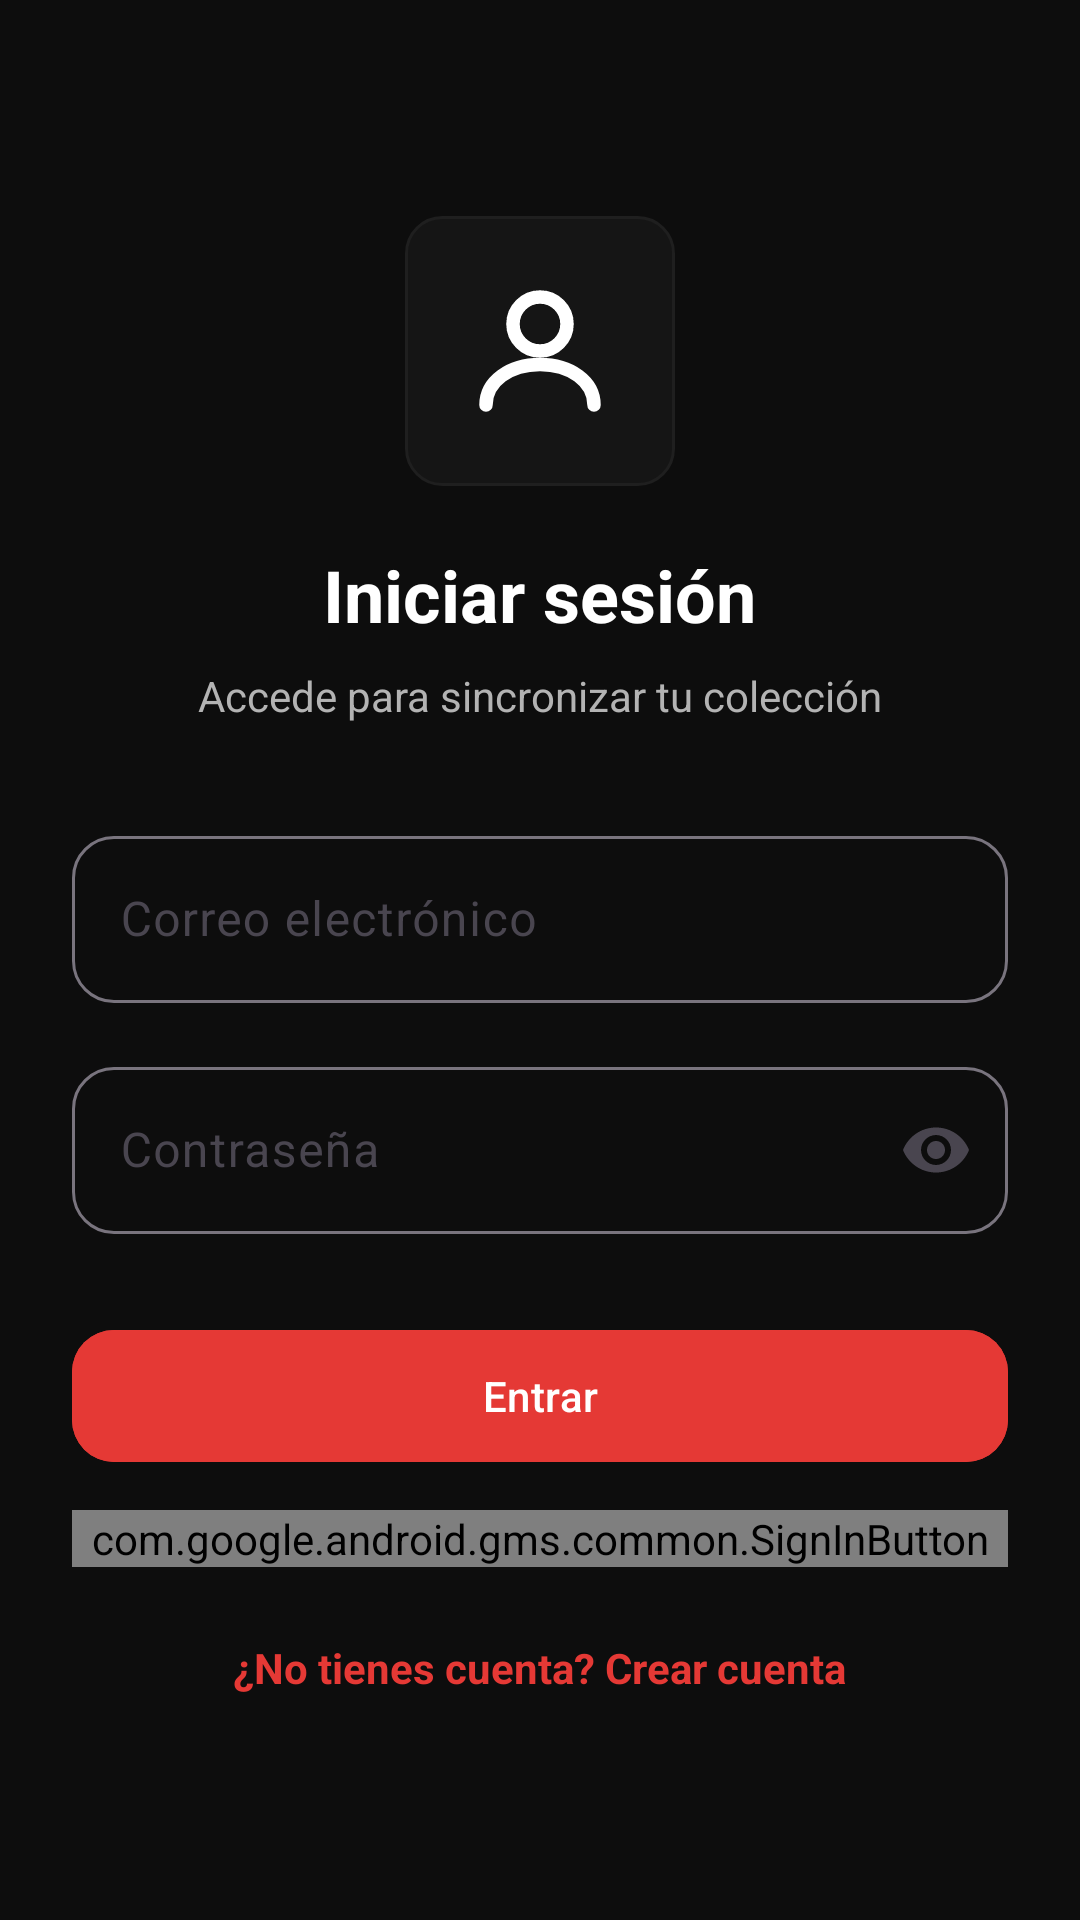

Where to tap for icons on this 1080×1920 app screen, as (x,y):
profile: (540,351)
